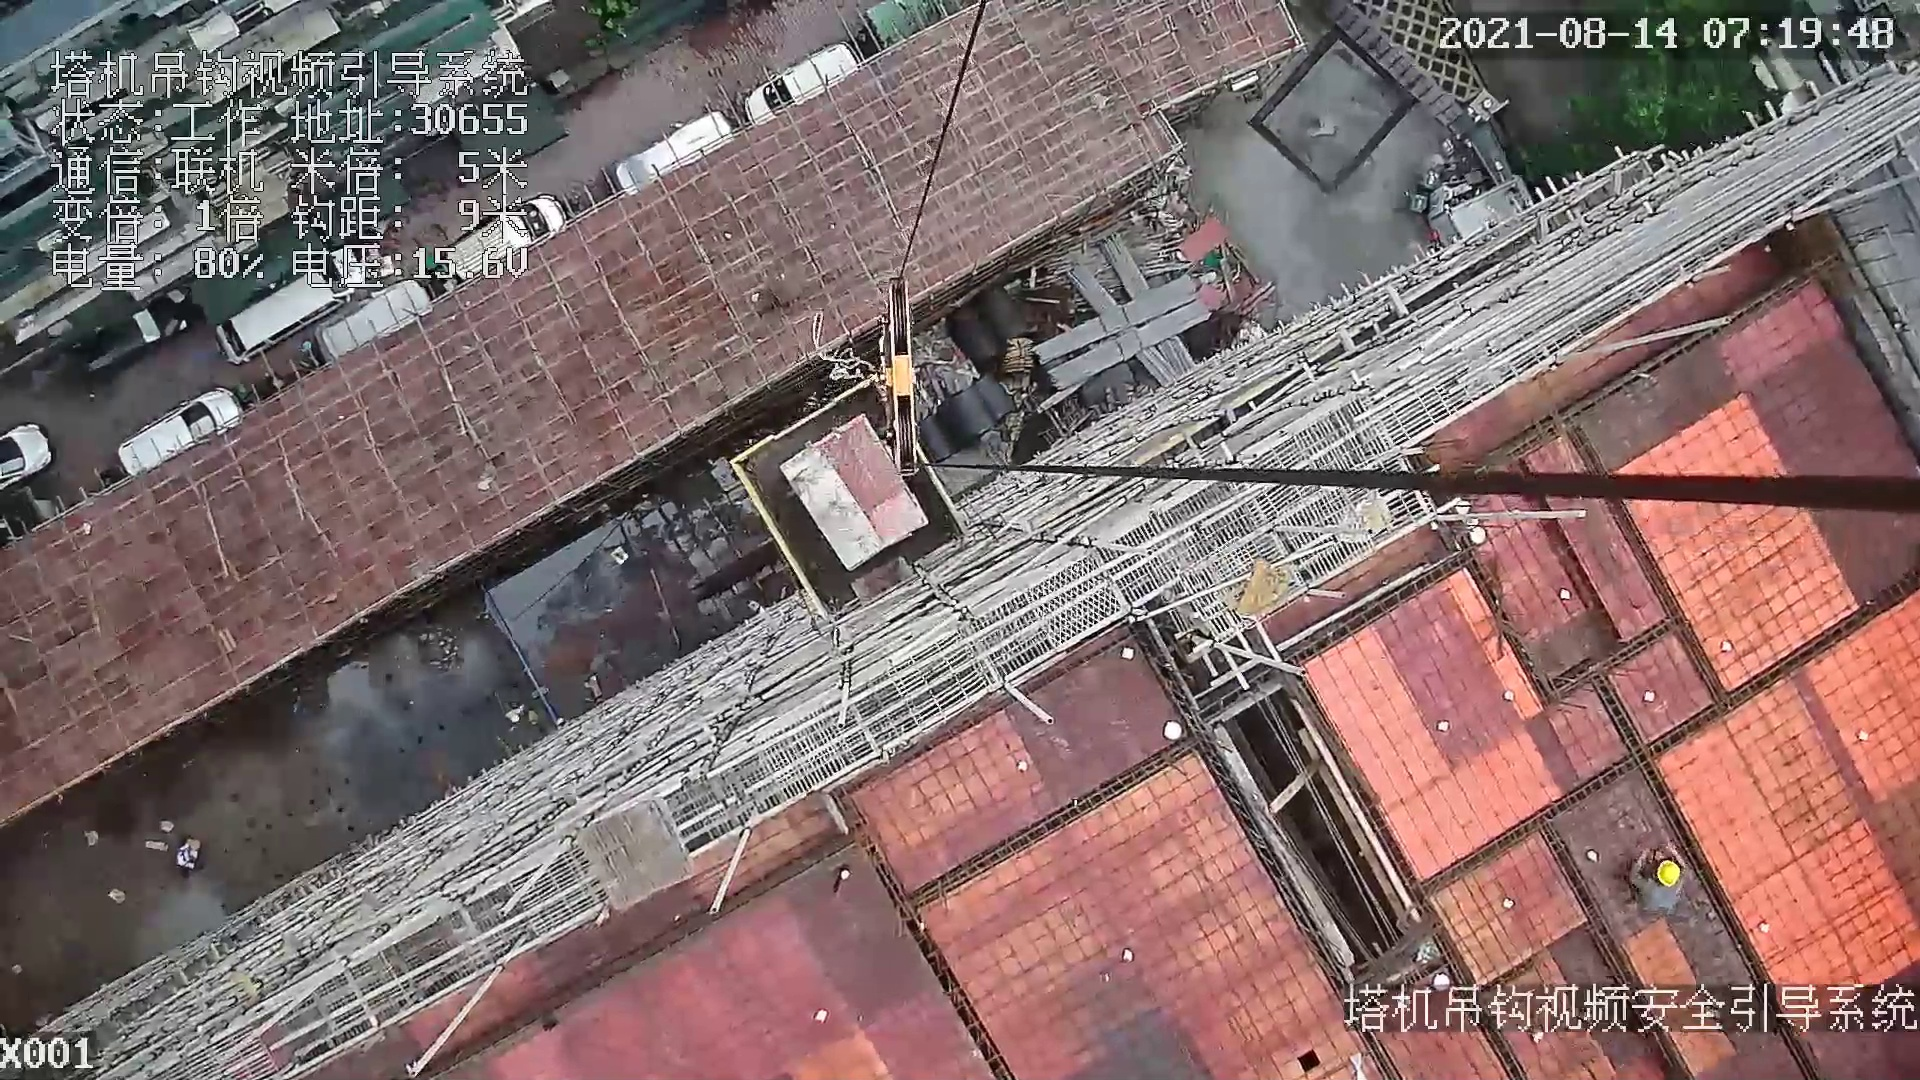helmet: (1656, 858, 1680, 893)
hook: (867, 273, 935, 477)
person: (1628, 846, 1687, 923)
